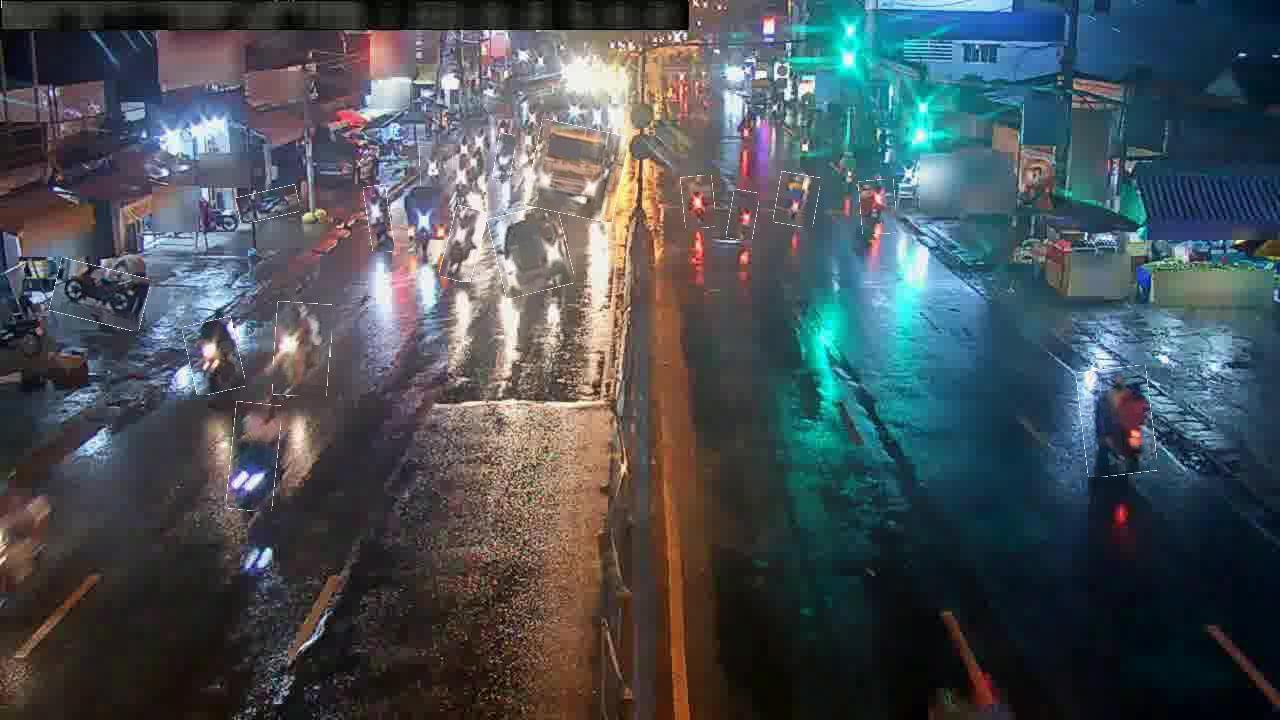8: (528, 123, 625, 219)
container: (492, 206, 571, 296)
motorbike: (1079, 367, 1155, 477), (52, 263, 149, 327), (228, 402, 280, 511), (274, 302, 332, 397), (186, 319, 242, 394), (444, 207, 484, 282), (775, 173, 819, 227), (236, 188, 299, 221), (859, 180, 896, 235), (366, 185, 393, 253), (682, 176, 715, 229), (728, 190, 758, 241), (494, 134, 515, 181), (420, 146, 443, 186), (452, 155, 472, 199)
